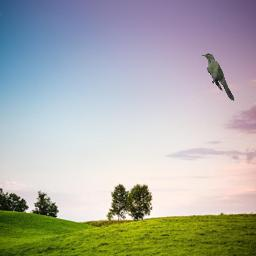Cuckoo: (202, 53, 236, 101)
